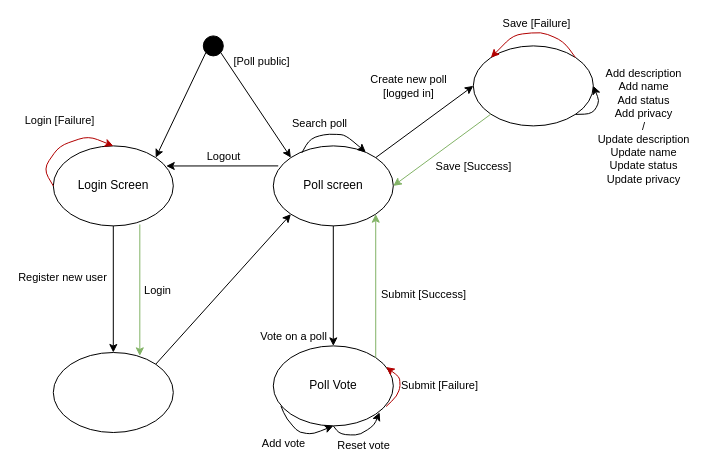
This 706x470 diagram has some shape labels left out. Each missing label, with the centre of its shape:
Poll Data: the point at 532,85
Welcome Screen: the point at 112,392
